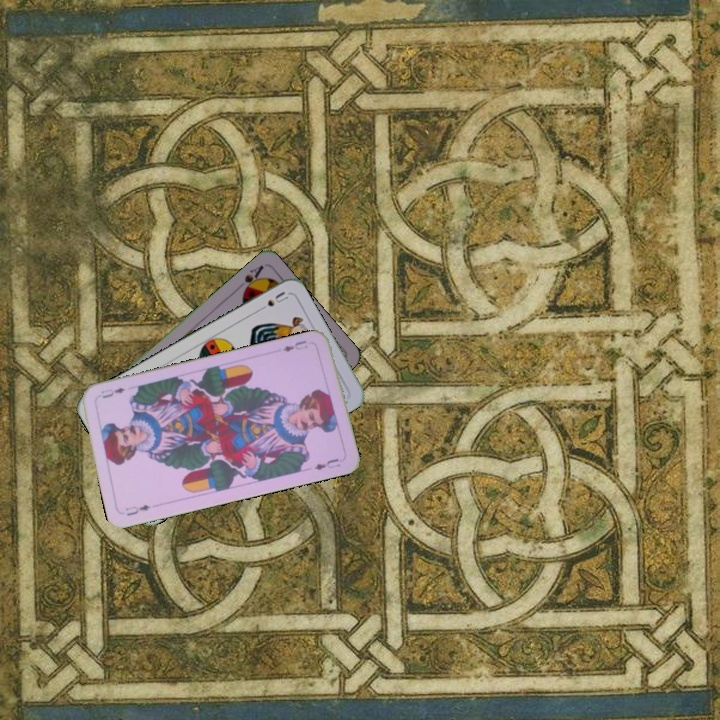EU: (121, 501, 153, 519), (279, 336, 310, 354)
SA: (239, 261, 266, 297)
SU: (254, 287, 291, 314)
